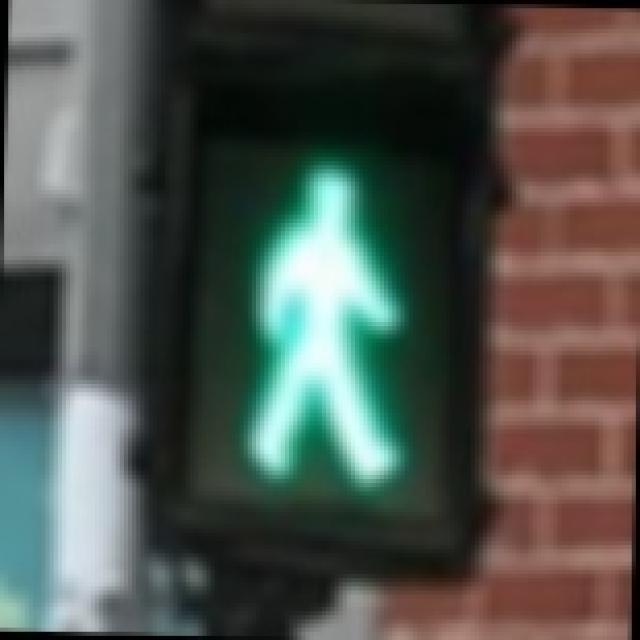geen-crossing: (153, 95, 475, 533)
